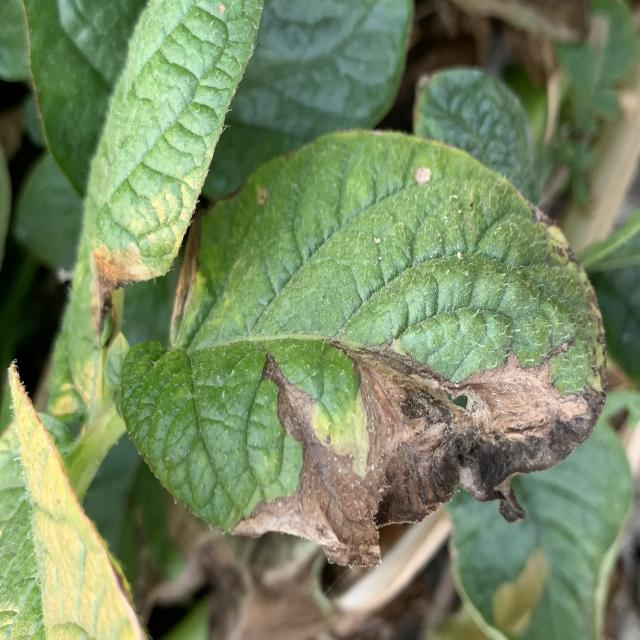lateblight: (234, 343, 602, 565)
